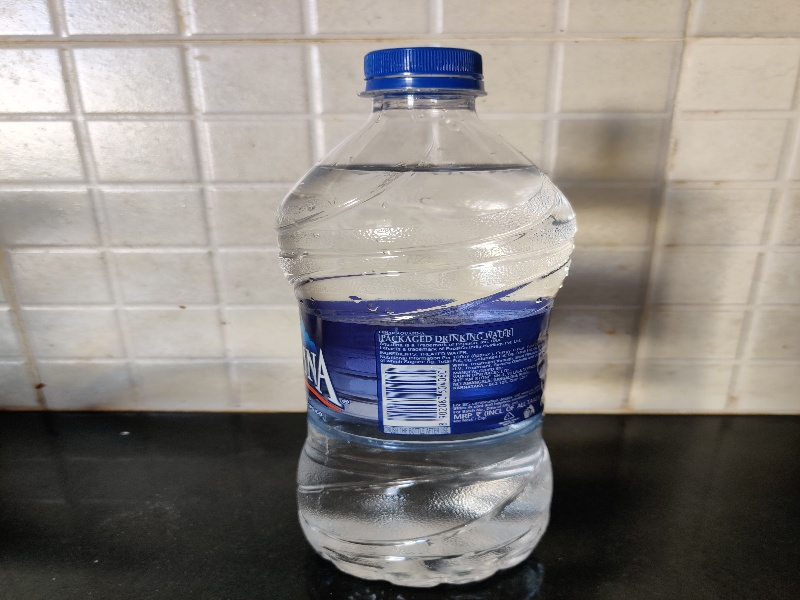bottle: (256, 39, 556, 582)
